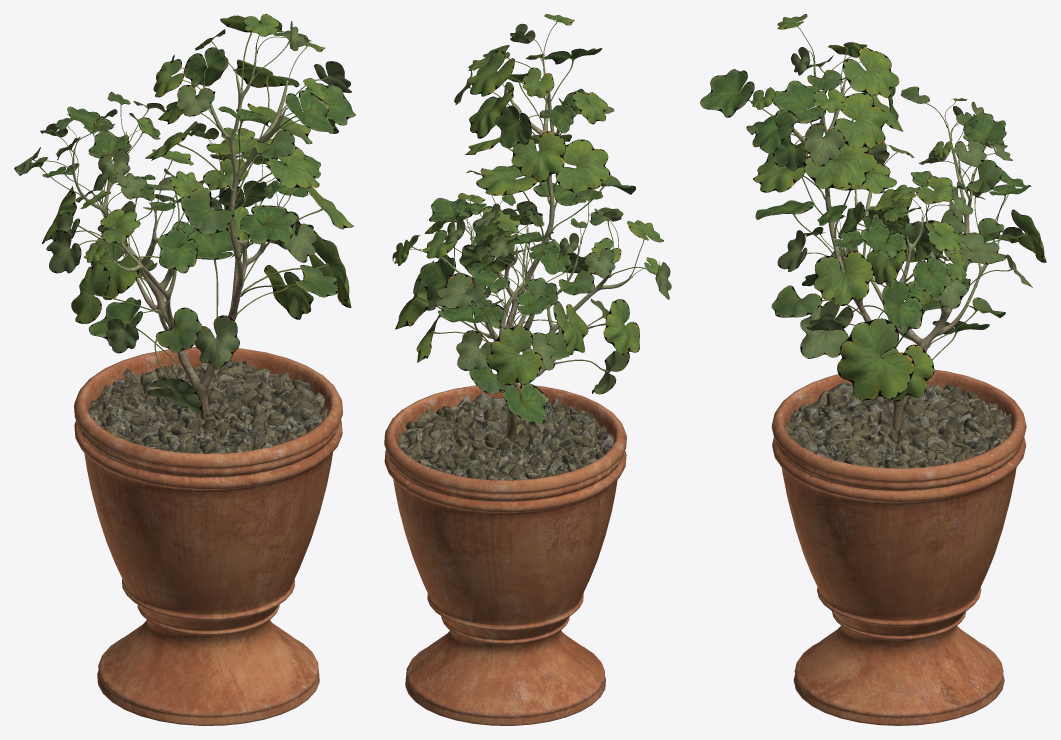
3 renders of one model, left to right at view 1: azimuth 30°, elevation 25°; view 2: azimuth 150°, elevation 25°; view 3: azimuth 270°, elevation 25°, orthographic. The views are drawn at different scales.
Visible parts, largest first — view 1: potted_plant_01_pot, potted_plant_01_leaves, potted_plant_01_pebbles, potted_plant_01_stem; view 2: potted_plant_01_pot, potted_plant_01_leaves, potted_plant_01_pebbles, potted_plant_01_stem; view 3: potted_plant_01_pot, potted_plant_01_leaves, potted_plant_01_pebbles, potted_plant_01_stem.
Part boxes in pixels (x1,y1,x2,y2): potted_plant_01_pot: [74, 347, 342, 725]; potted_plant_01_leaves: [14, 14, 355, 414]; potted_plant_01_pebbles: [88, 360, 327, 453]; potted_plant_01_stem: [73, 49, 288, 420]; potted_plant_01_pot: [384, 384, 626, 725]; potted_plant_01_leaves: [392, 14, 671, 423]; potted_plant_01_pebbles: [398, 392, 614, 480]; potted_plant_01_stem: [441, 54, 632, 443]; potted_plant_01_pot: [771, 369, 1026, 725]; potted_plant_01_leaves: [700, 14, 1046, 401]; potted_plant_01_pebbles: [785, 382, 1011, 468]; potted_plant_01_stem: [780, 55, 995, 431].
Bounding box in the file's own units: 34.8 × 79.19 × 37.54.
2 materials, 2 textured.
